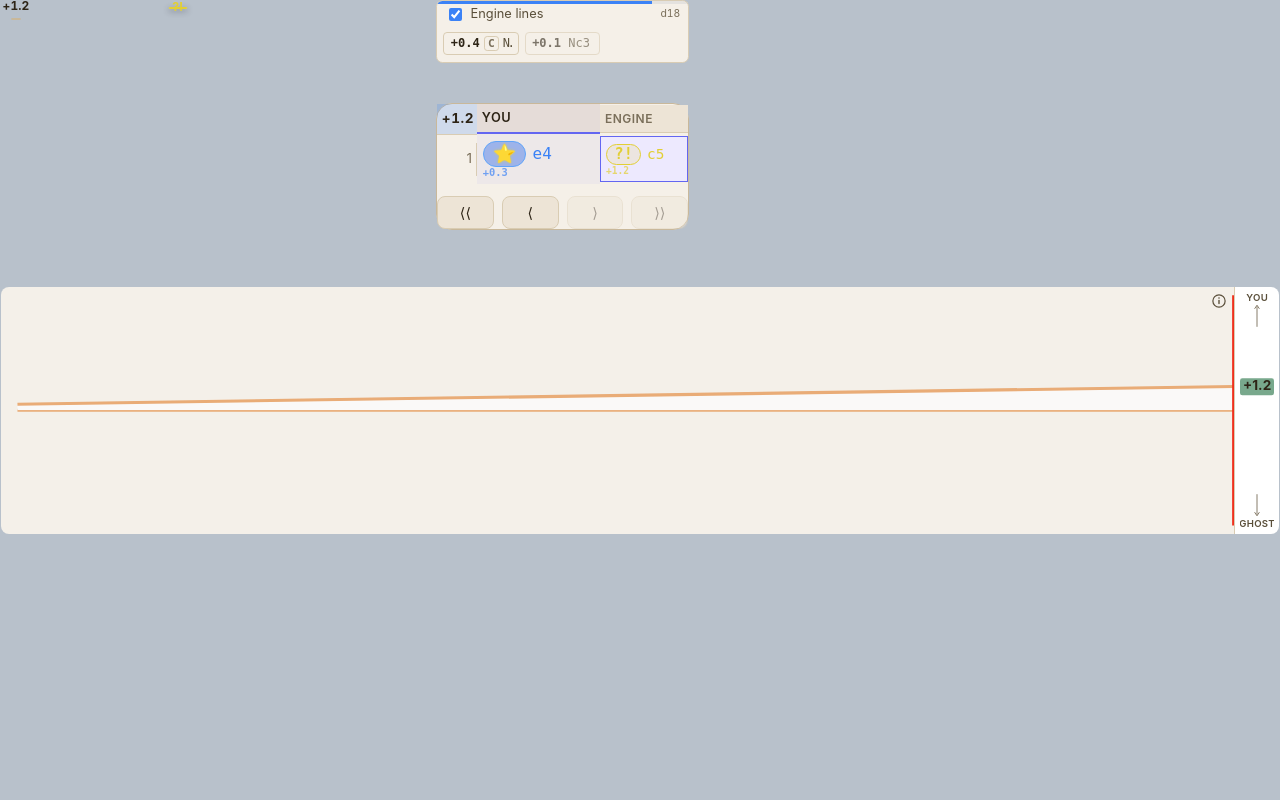
Scenario: AnalysisBoard MoveList › falls back to a single-move cached best line when no stored PV is present
Click the button with aria-label "Show engine line 1": (481, 44) [443, 32, 519, 55]
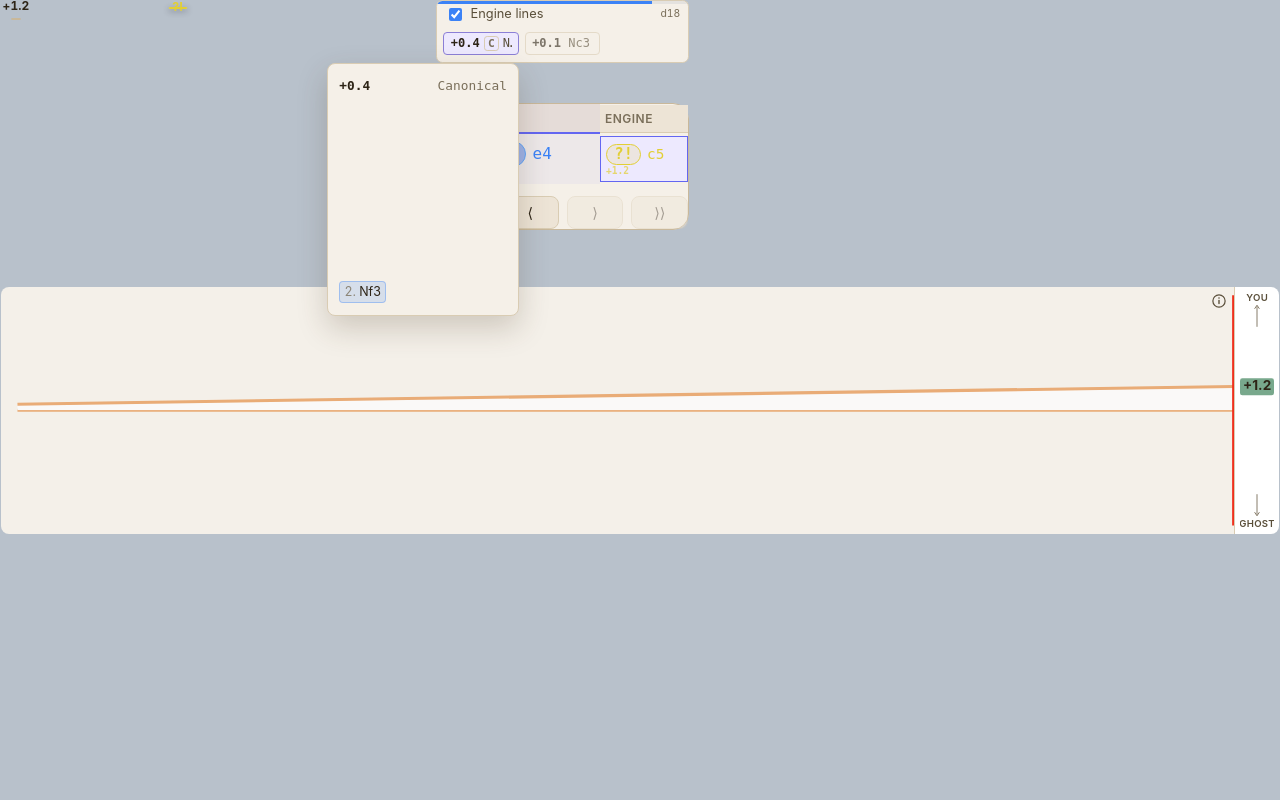
Check: the dialog named "Engine line preview" does not show "d6", box [327, 63, 519, 316]
Check: the dialog named "Engine line preview" shows "Nf3", box [339, 281, 386, 303]
